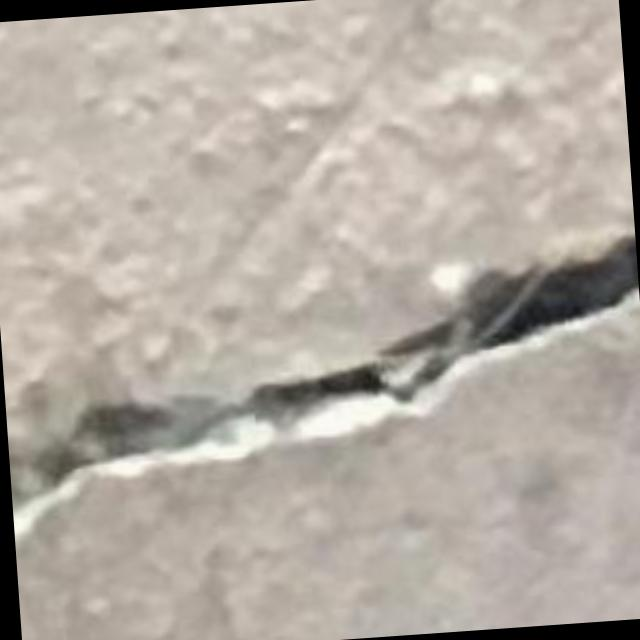crack: (9, 235, 638, 504)
